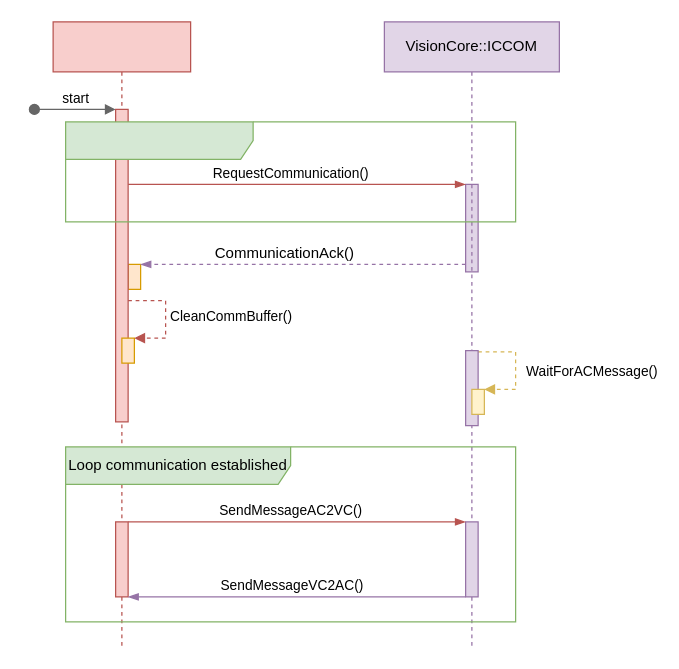
Image size: 679x669. Some labels were removed from this diagram. Each missing label, with the centre of its shape:
AutoCore::ICCOM: point 121,334
Loop send data cyclically: point 290,171
